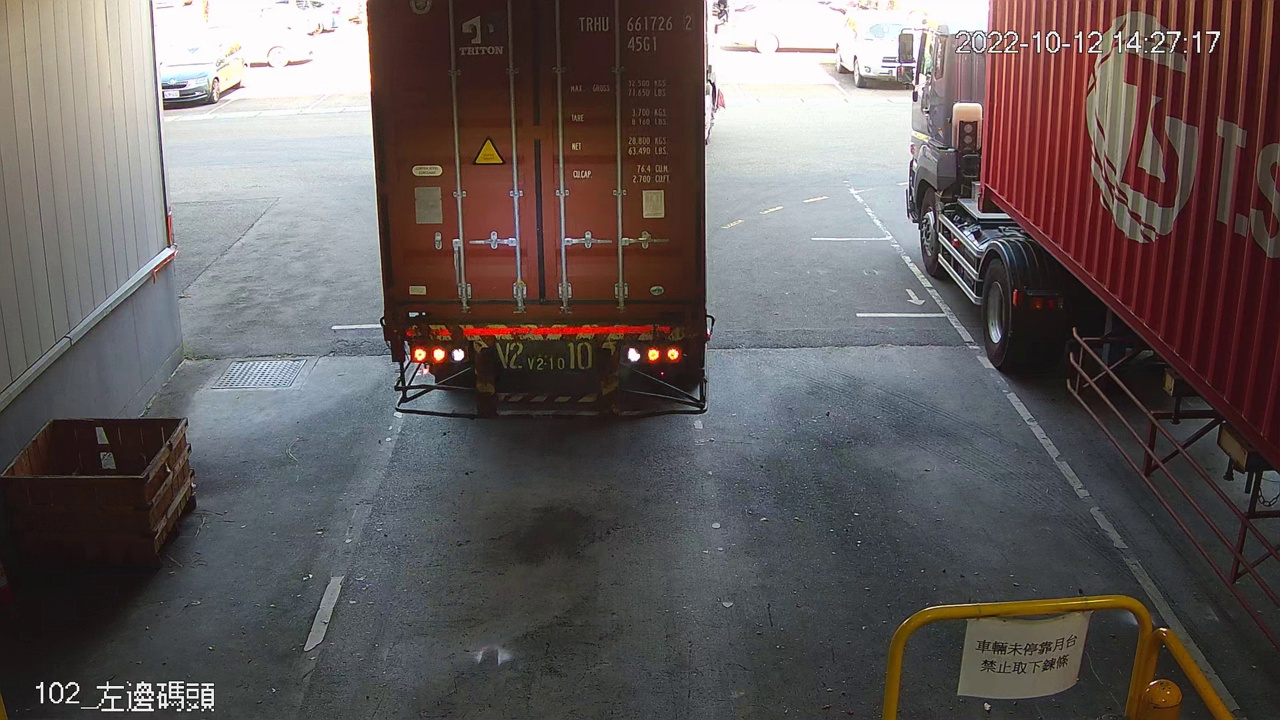container: (574, 9, 700, 59)
